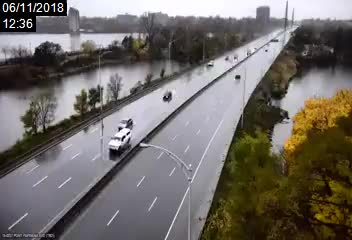personal_car: (105, 128, 134, 154), (117, 116, 134, 134), (162, 90, 175, 101), (207, 59, 217, 67), (232, 73, 241, 79), (224, 54, 230, 61)
